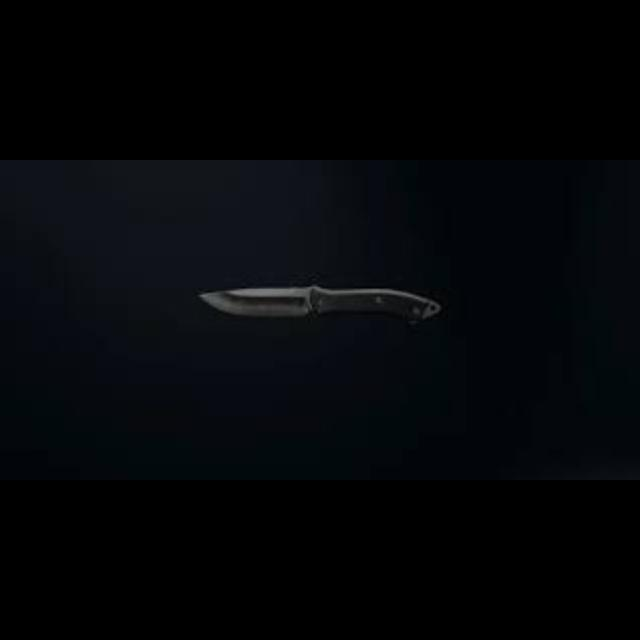knife: (196, 283, 440, 323)
